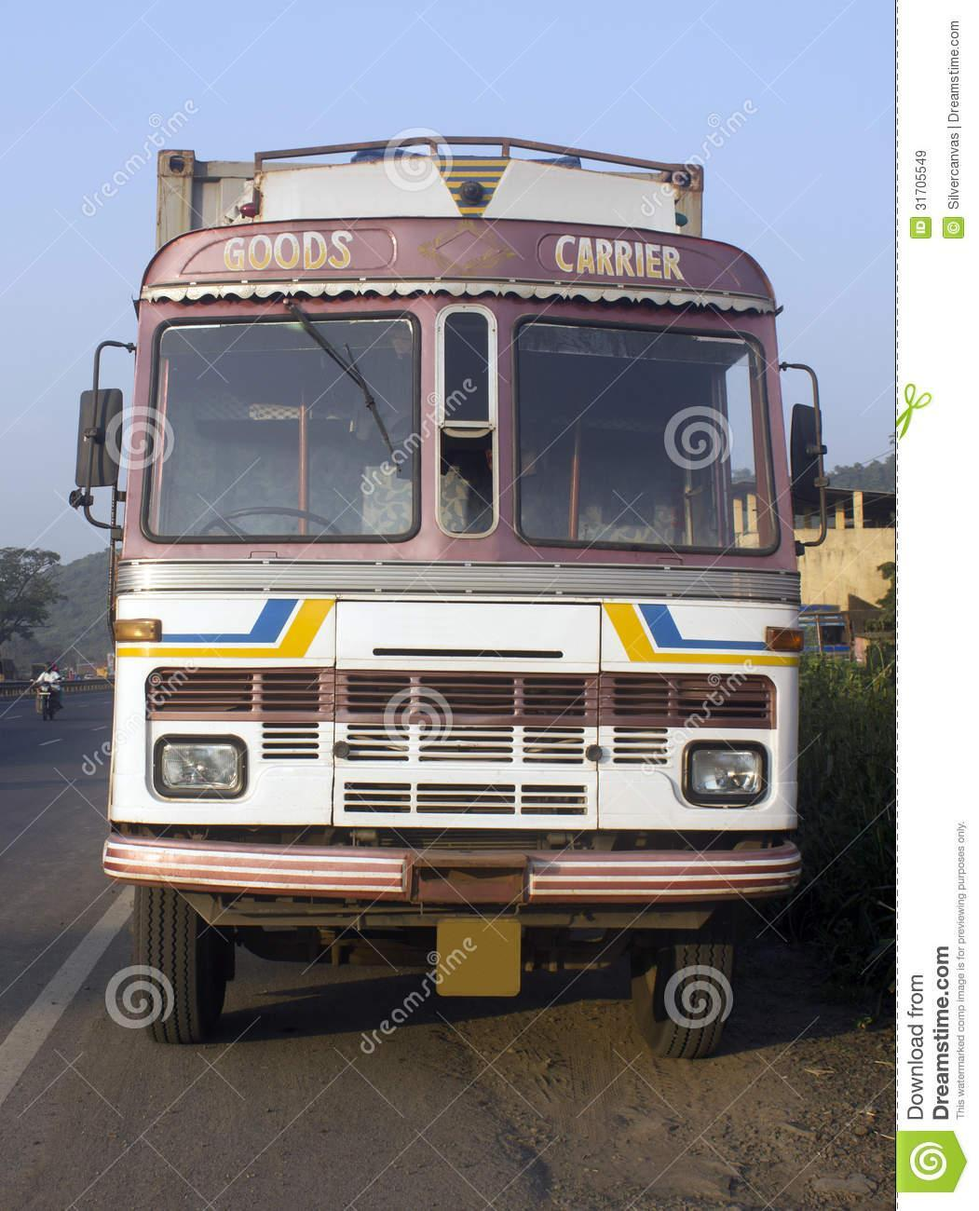truck: (75, 122, 848, 1023)
